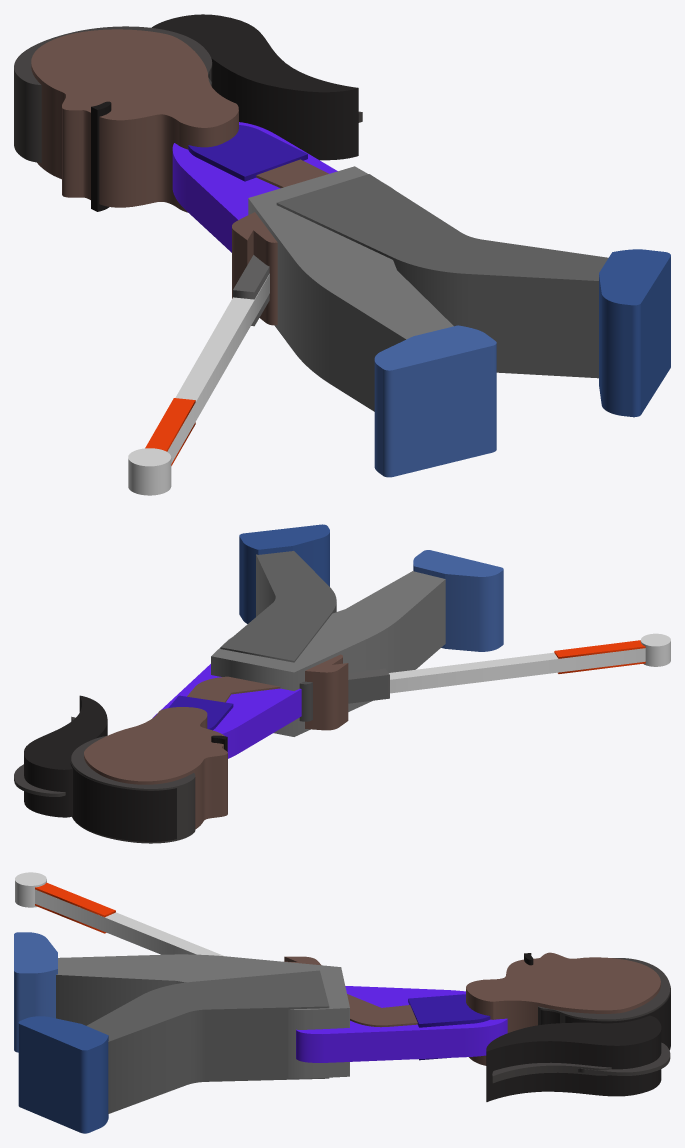
File: emoji_u1f469_1f3ff_200d_1f9af.glb
3 renders of one model, top to bottom at view 1: azimuth 30°, elevation 25°; view 2: azimuth 150°, elevation 25°; view 3: azimuth 270°, elevation 25°, orthographic. The views are drawn at different scales.
Visible parts, largest first — view 1: emoji_u1f469_1f3ff_200d_1f9af; view 2: emoji_u1f469_1f3ff_200d_1f9af; view 3: emoji_u1f469_1f3ff_200d_1f9af.
Boxes of the visible parts, x1,y1,x2,y2 form: emoji_u1f469_1f3ff_200d_1f9af: (14, 14, 670, 495); emoji_u1f469_1f3ff_200d_1f9af: (14, 524, 670, 843); emoji_u1f469_1f3ff_200d_1f9af: (14, 872, 670, 1133).
Size of the model in its own units: 0.0248 by 0.0046 by 0.033.
